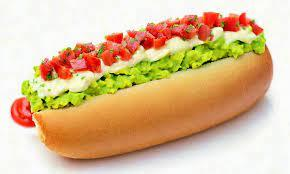Completos: (13, 7, 276, 163)
